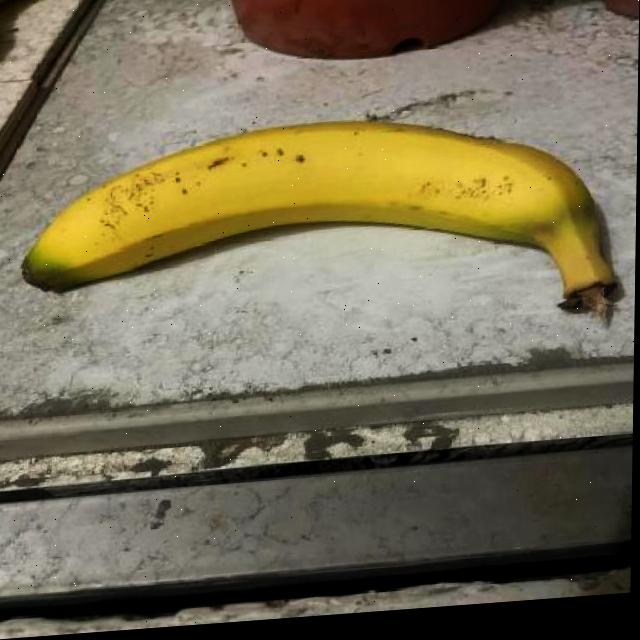banana: (14, 94, 626, 370)
